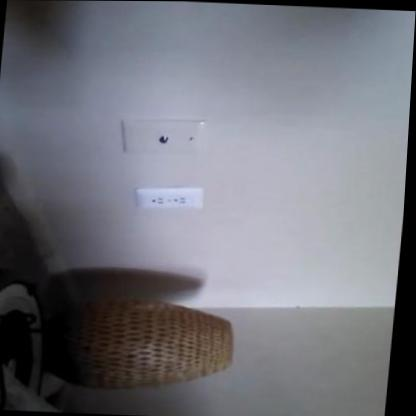OUTLET: (133, 184, 205, 210)
